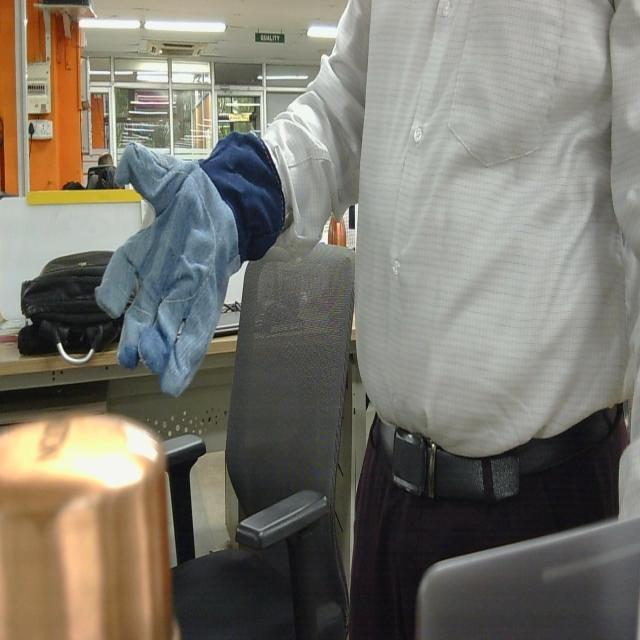Gloves-Detection: (97, 131, 285, 396)
